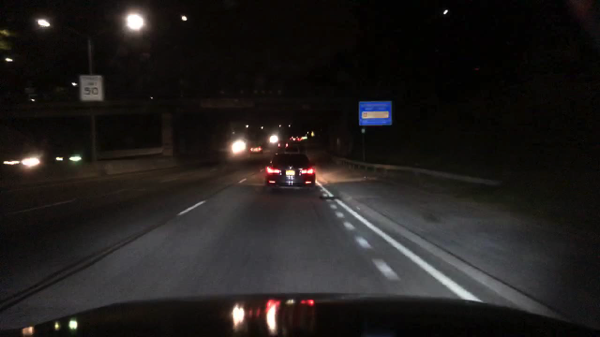car: (264, 153, 316, 191), (2, 152, 42, 167), (54, 151, 83, 163), (284, 144, 300, 154), (250, 146, 262, 154), (277, 141, 289, 147), (289, 136, 296, 141), (296, 137, 301, 142)
traffic sign: (359, 102, 392, 125), (79, 75, 104, 101)
